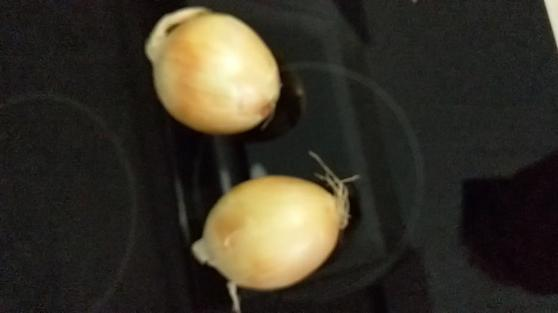onion: (195, 162, 353, 291), (143, 6, 286, 138)
